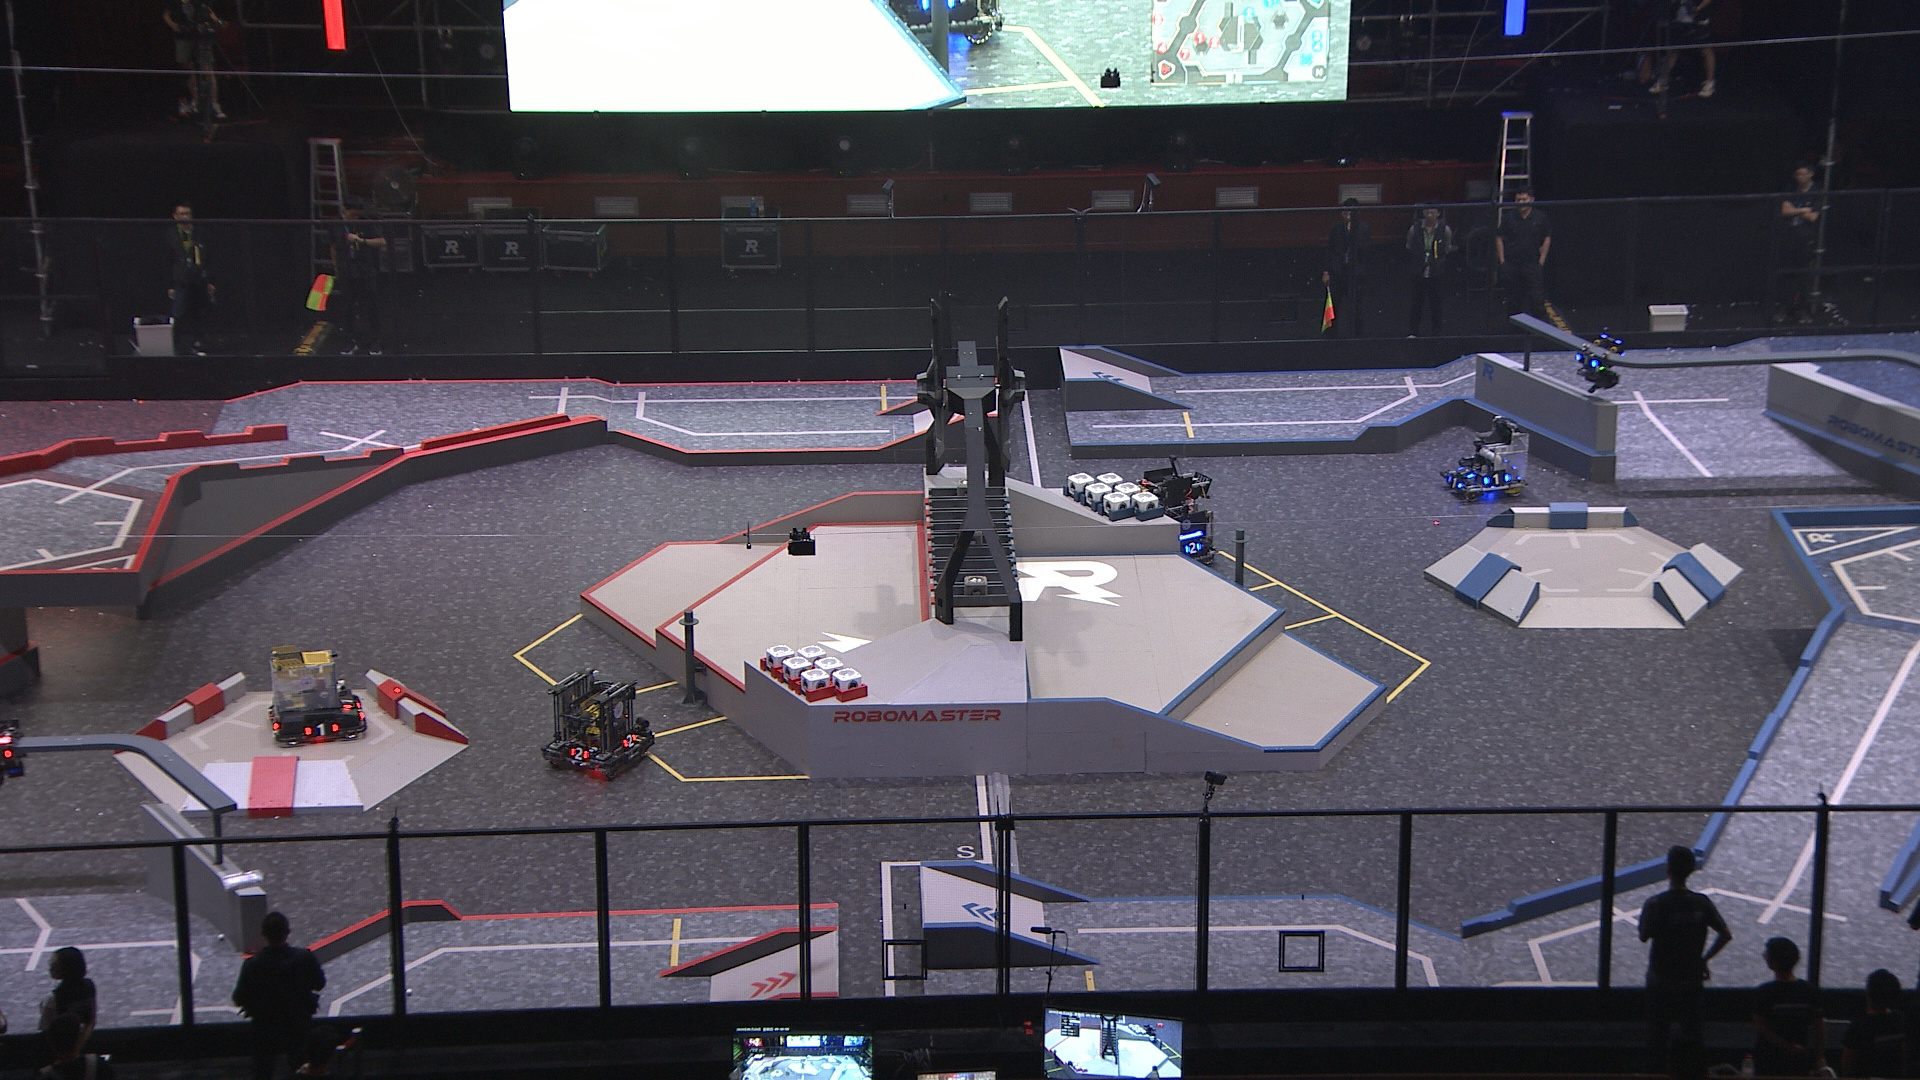armor: (305, 723, 338, 740), (1481, 472, 1513, 487), (1575, 349, 1598, 367), (567, 746, 589, 764), (618, 732, 638, 750), (1448, 475, 1461, 495), (1458, 465, 1476, 480), (339, 694, 353, 709), (1183, 541, 1201, 553)
car: (538, 669, 657, 781), (264, 647, 367, 746), (1135, 465, 1221, 576), (1437, 415, 1528, 502)
watcher: (1569, 334, 1626, 396)
